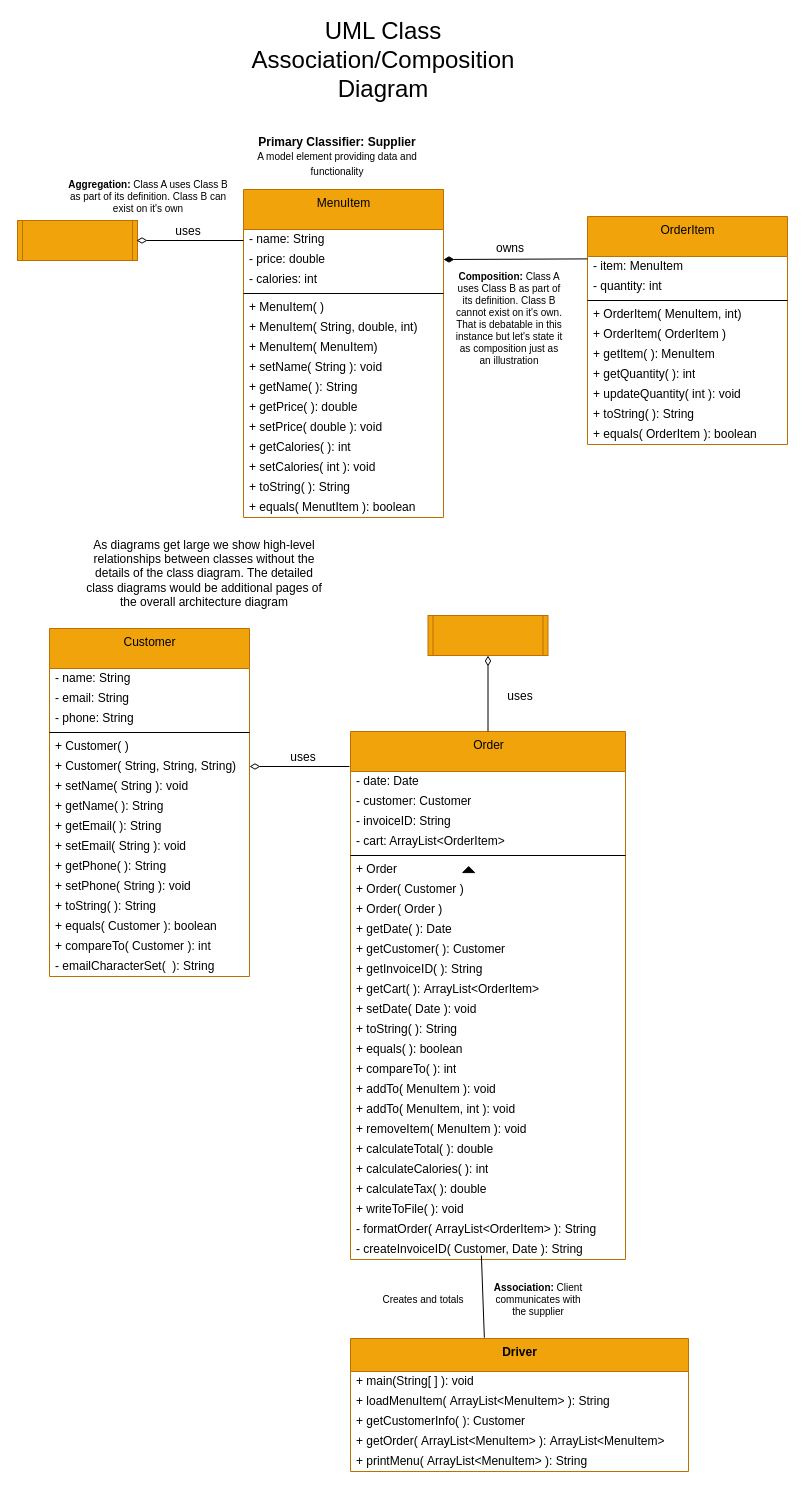
Some shapes in this 805 by 1489 pixel diagram are drawn without their labels. The shapes that lost their labels are listed below. From the top down, each one's box as (x1, y1, x2, y2) in pixels, then its label:
(16, 220, 138, 260): String
(427, 614, 548, 656): Date
